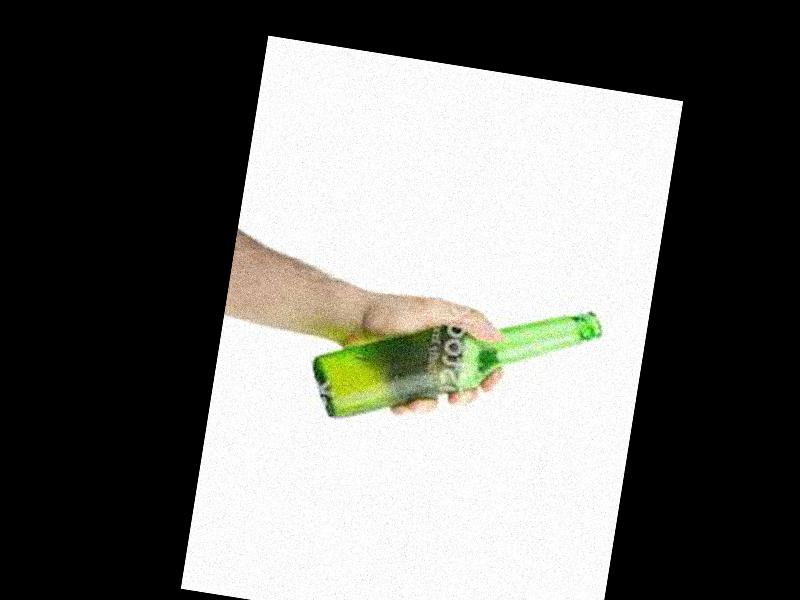Beer: (307, 269, 607, 458)
